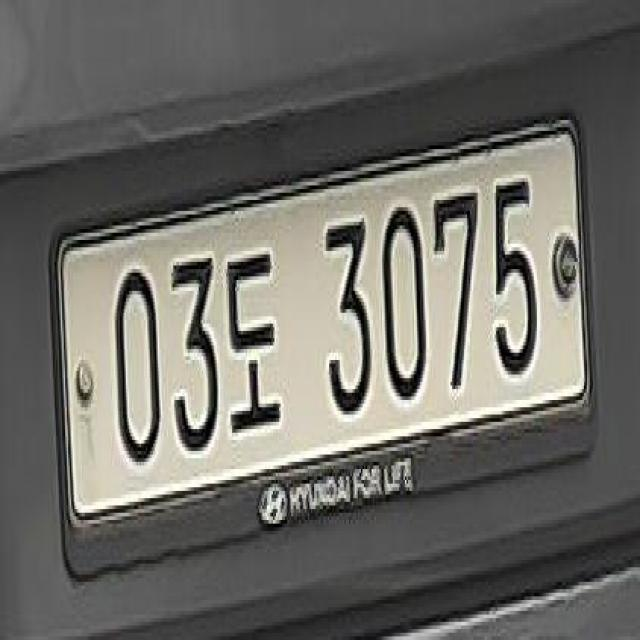illegal_plate: (53, 121, 599, 556)
